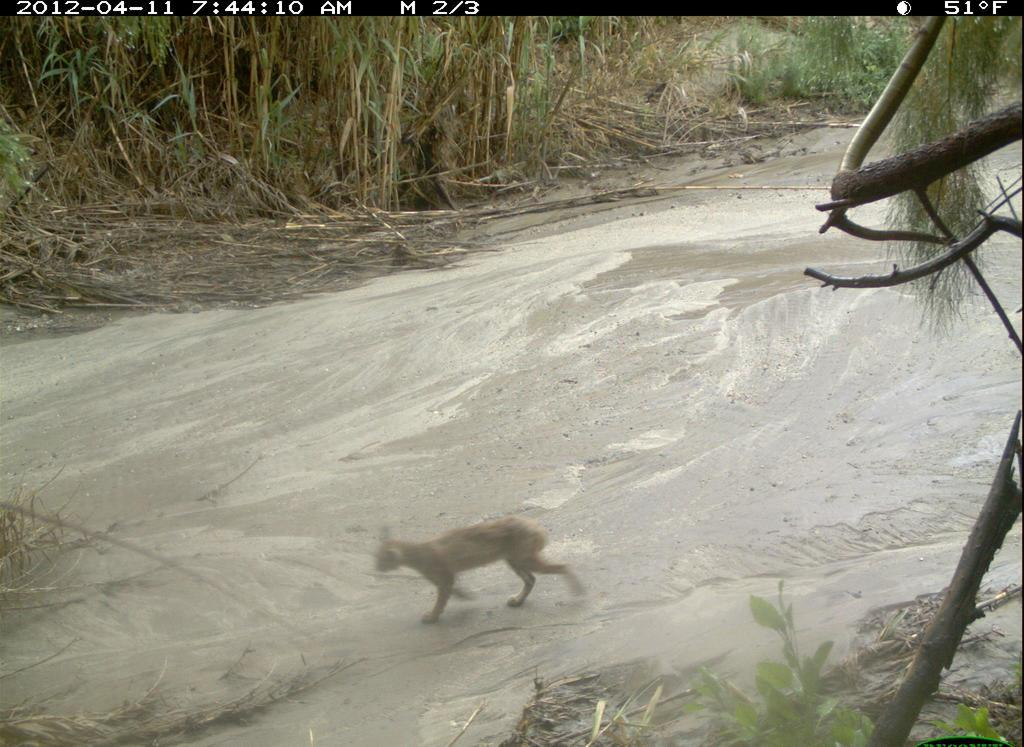bobcat: (374, 514, 588, 633)
